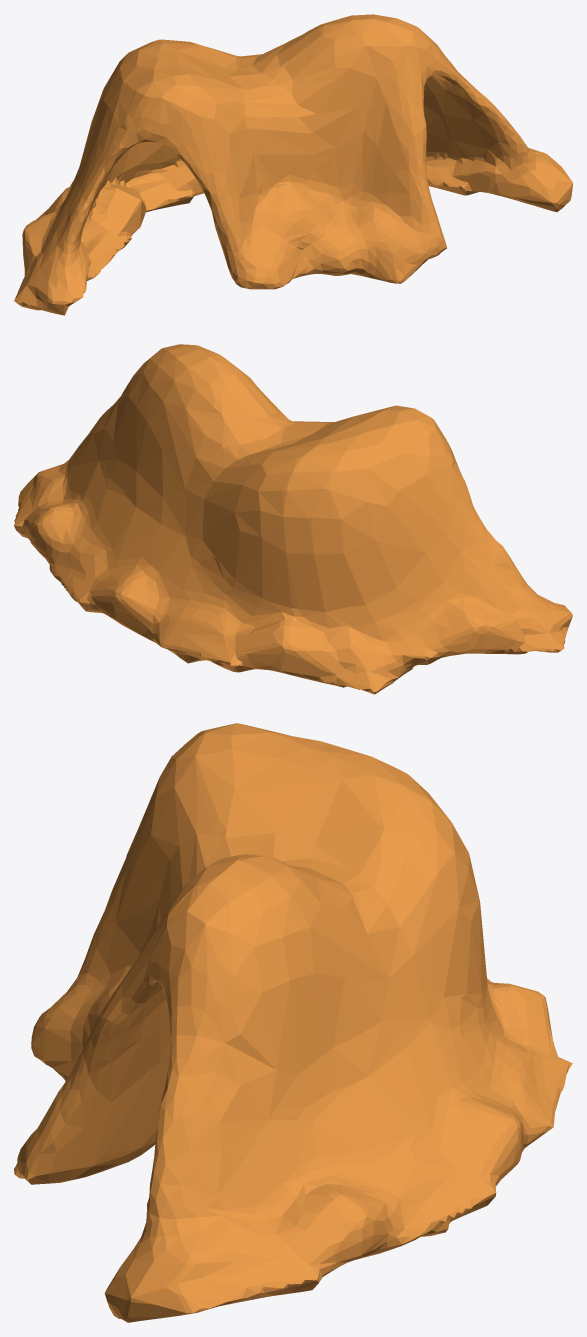
The model's file is SM_Tunnel4.fbx.
The picture shows the model from 3 angles, top to bottom: view 1: azimuth 30°, elevation 25°; view 2: azimuth 150°, elevation 25°; view 3: azimuth 270°, elevation 25°; orthographic projection. The views are drawn at different scales.
Parts seen in each view (by area): view 1: SM_Tunnel4; view 2: SM_Tunnel4; view 3: SM_Tunnel4.
Part boxes in pixels (<box>): SM_Tunnel4: <box>14,14,572,315</box>; SM_Tunnel4: <box>14,344,572,694</box>; SM_Tunnel4: <box>14,723,572,1322</box>.
Size of the model in its own units: 580 by 218 by 329.
